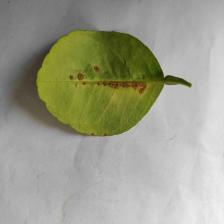canker: (66, 53, 157, 126)
